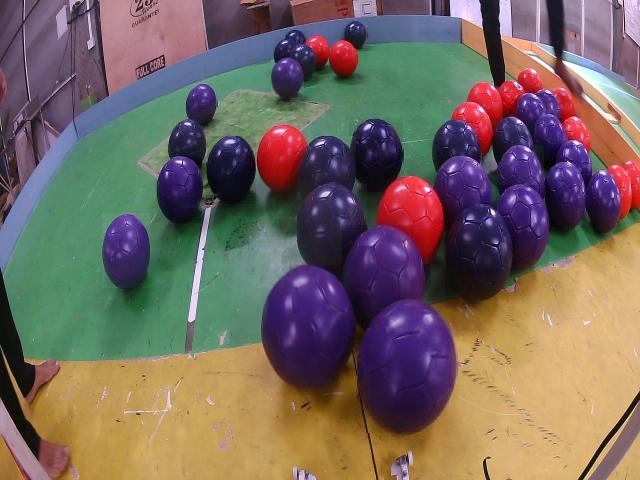jambhalya: (357, 300, 457, 433), (262, 265, 356, 388), (343, 225, 425, 328), (496, 185, 549, 270), (434, 156, 492, 224), (103, 214, 150, 288), (157, 157, 202, 223), (545, 161, 587, 231), (497, 145, 544, 198), (586, 170, 621, 233), (533, 113, 567, 167), (558, 140, 592, 185), (271, 56, 304, 99), (516, 93, 547, 137), (186, 83, 217, 125), (536, 89, 561, 118)
kaalyya: (297, 184, 367, 278), (445, 204, 512, 300), (350, 118, 403, 192), (299, 136, 356, 196), (206, 136, 256, 204), (433, 120, 481, 170), (168, 118, 207, 167), (493, 117, 534, 162), (290, 44, 316, 80), (345, 22, 367, 48), (274, 39, 296, 63), (286, 30, 307, 43)
